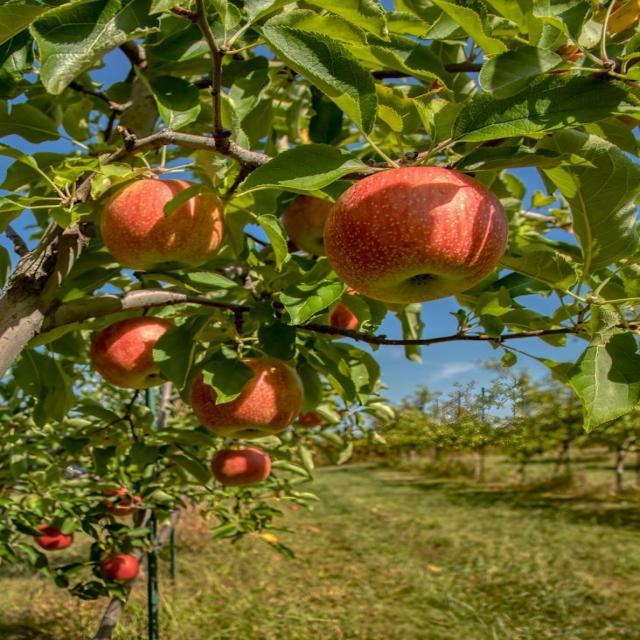Red Apple: (331, 176, 510, 307), (100, 183, 225, 266), (202, 360, 305, 440), (90, 320, 188, 383), (288, 182, 351, 263), (319, 281, 380, 339), (214, 450, 274, 481), (103, 557, 141, 581), (105, 488, 141, 513), (37, 524, 74, 548)
